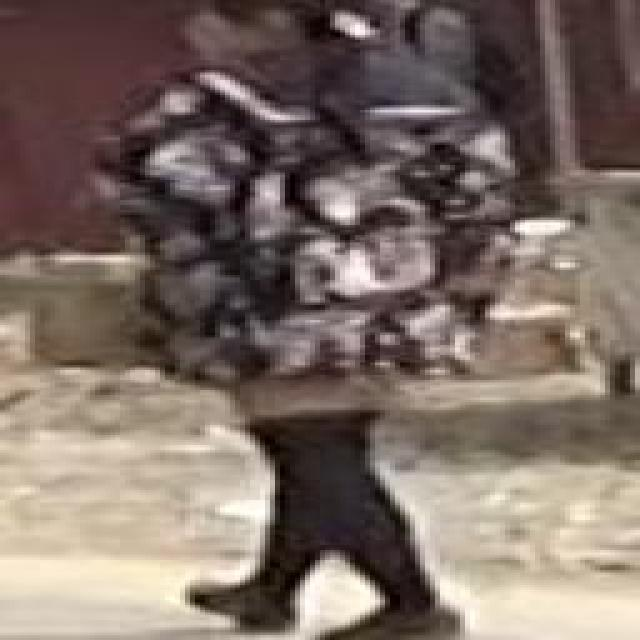adult: (103, 0, 508, 640)
